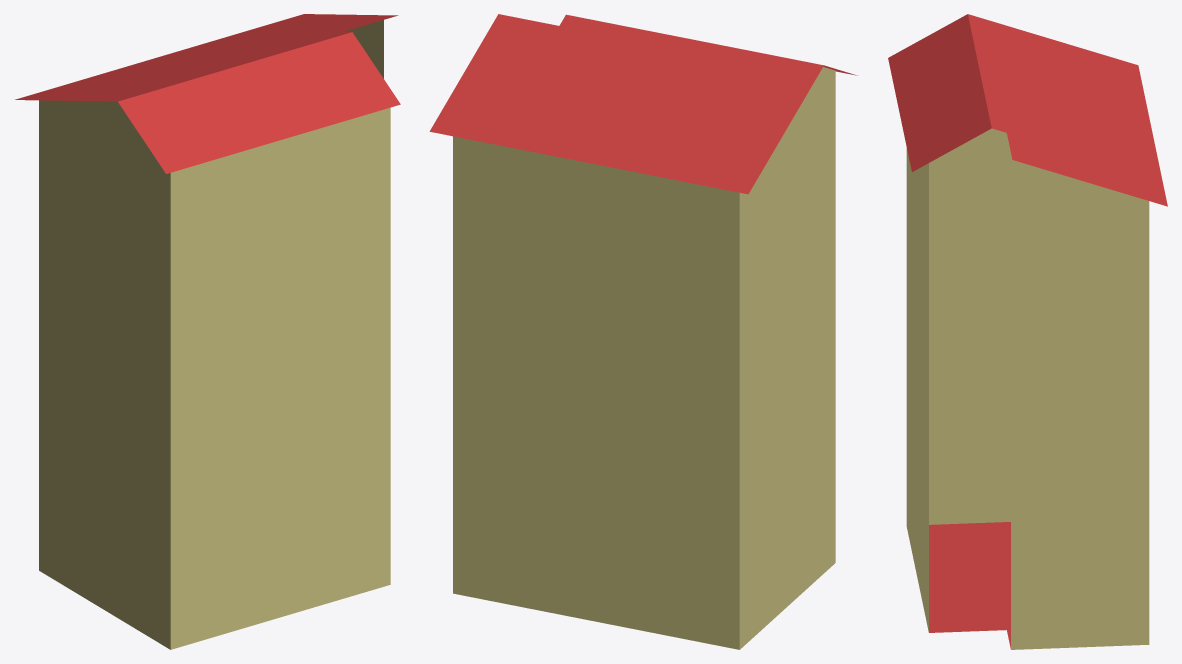
3 renders of one model, left to right at view 1: azimuth 30°, elevation 25°; view 2: azimuth 150°, elevation 25°; view 3: azimuth 270°, elevation 25°, orthographic. The views are drawn at different scales.
Bounding box in the file's own units: 5.12 × 4.11 × 8.14.
